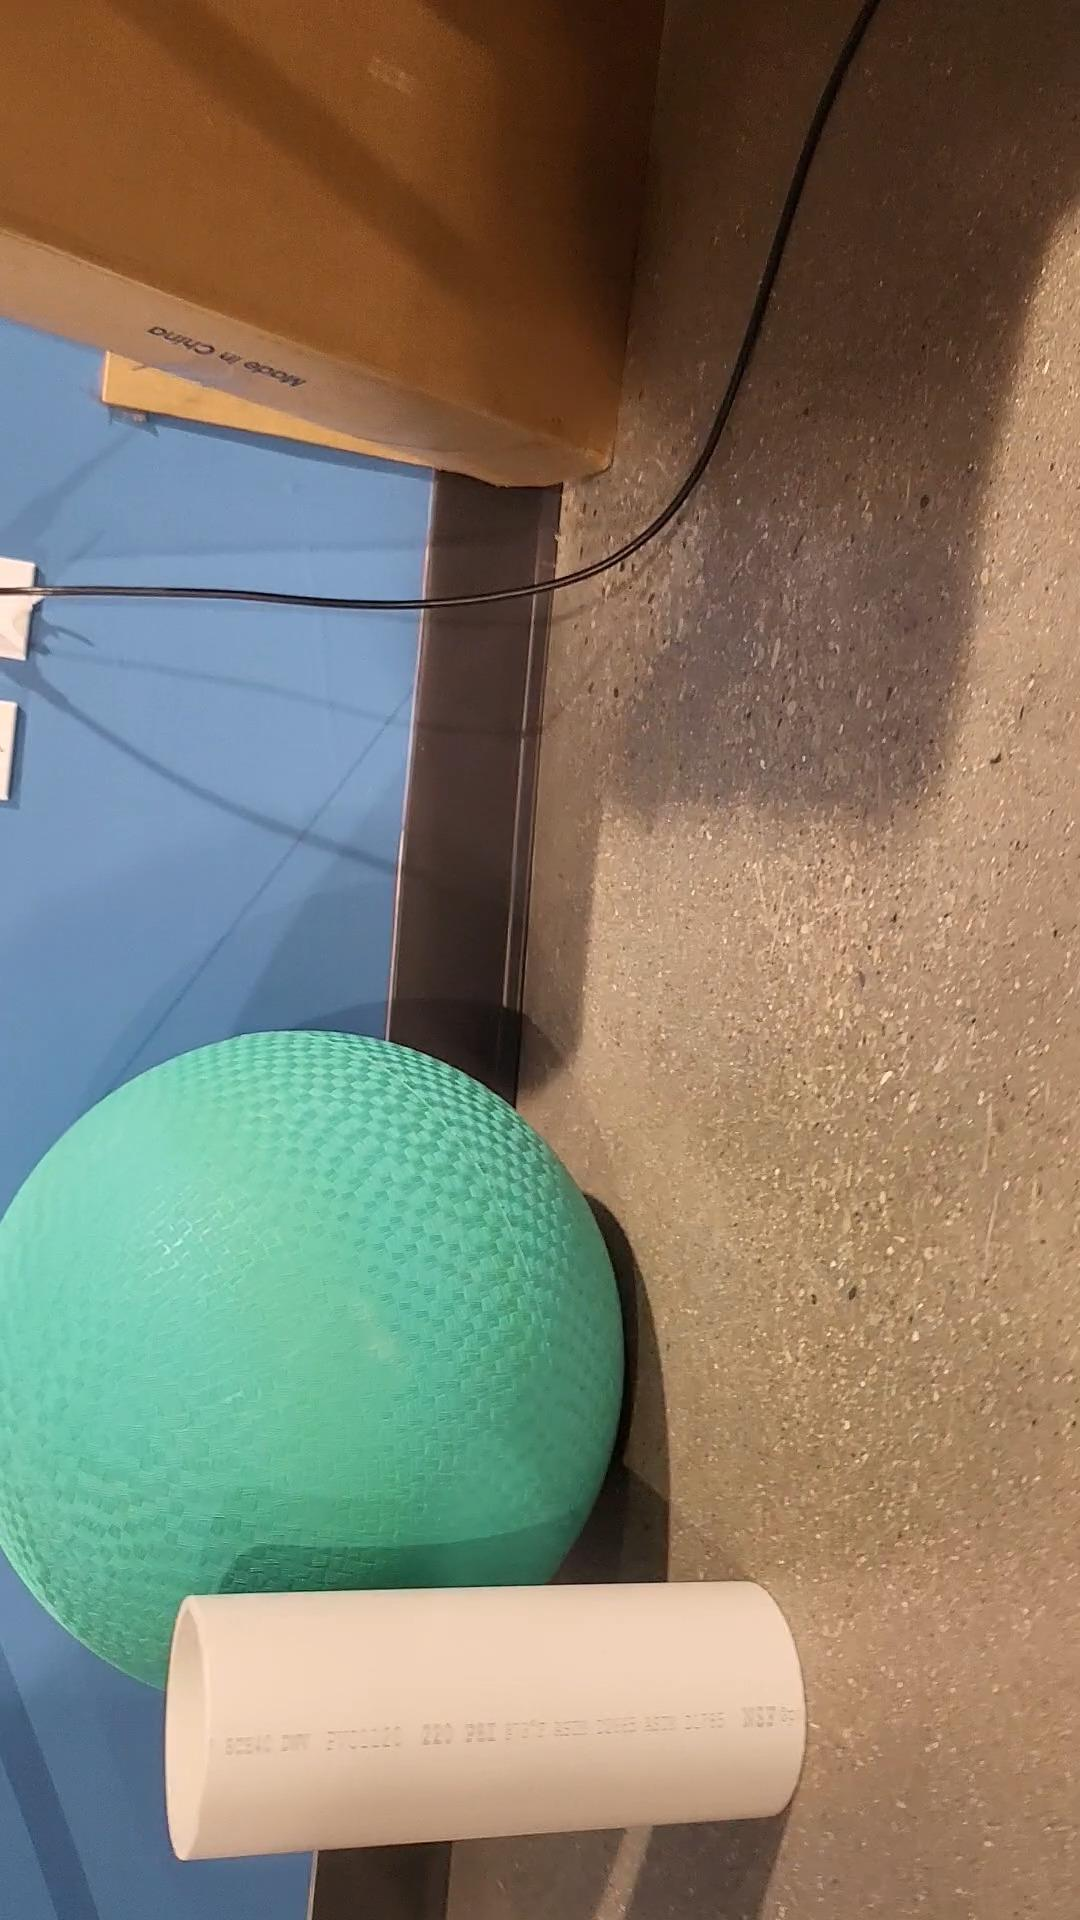algae: (0, 1030, 621, 1689)
coral: (164, 1584, 806, 1858)
